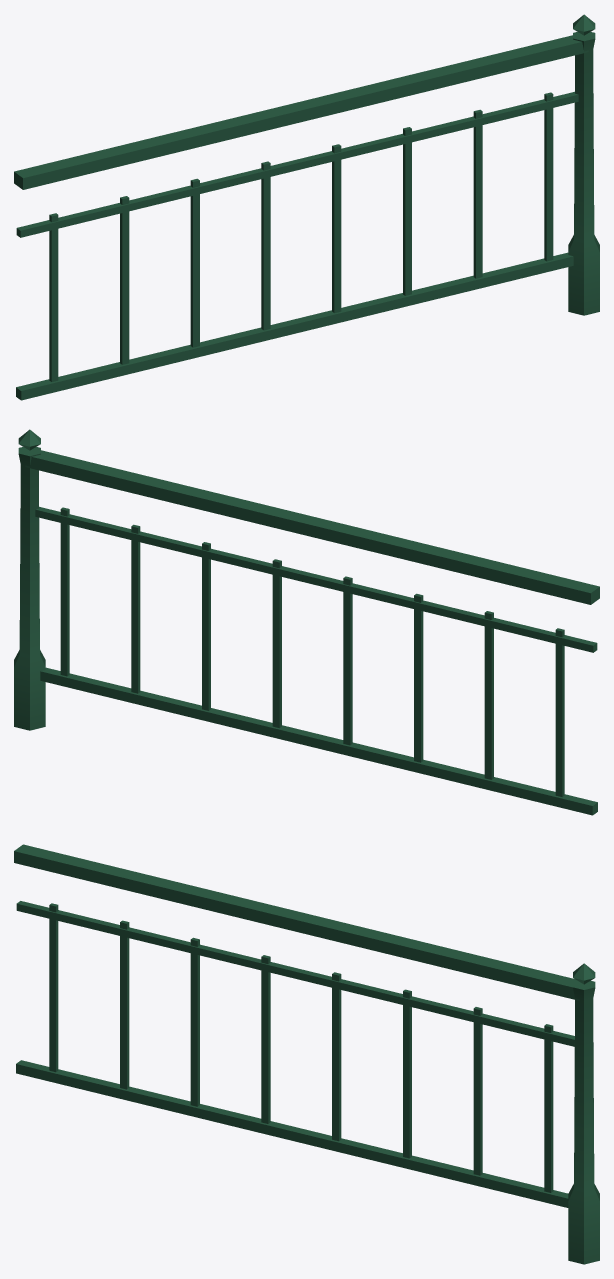
Rendered from SM_Prop_coast_promrail_1_LOD1.glb.
3 renders of one model, top to bottom at view 1: azimuth 30°, elevation 25°; view 2: azimuth 150°, elevation 25°; view 3: azimuth 330°, elevation 25°, orthographic.
Visible parts, largest first — view 1: SM_Prop_coast_promrail_1_LOD1; view 2: SM_Prop_coast_promrail_1_LOD1; view 3: SM_Prop_coast_promrail_1_LOD1.
Part boxes in pixels (box(x1,y1,x2,y2)): SM_Prop_coast_promrail_1_LOD1: box(14, 14, 599, 400); SM_Prop_coast_promrail_1_LOD1: box(14, 429, 599, 815); SM_Prop_coast_promrail_1_LOD1: box(14, 844, 599, 1264).
Size of the model in its own units: 2.57 by 1.24 by 0.1212.
